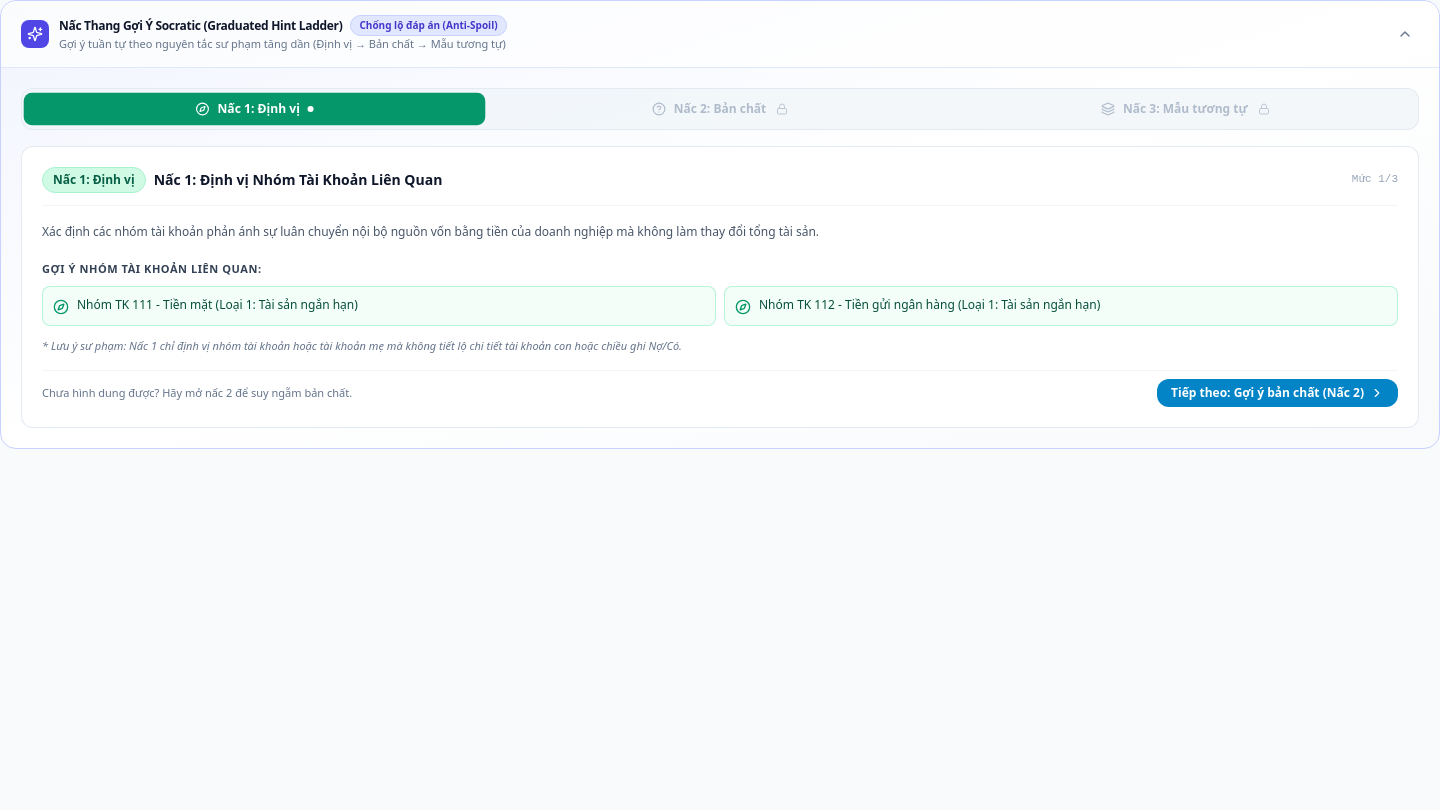
it: SOCRATIC HINT LADDER (R2) UNIT TESTS › 3. Anti-Spoil Sequential Progression › should unlock Level 2 only after clicking "Tiếp theo: Gợi ý bản chất (Nấc 2)"
# Unlock Level 2
Click the button with test id "unlock-level-2-button".
click(1278, 393)  # box [1157,379,1398,407]
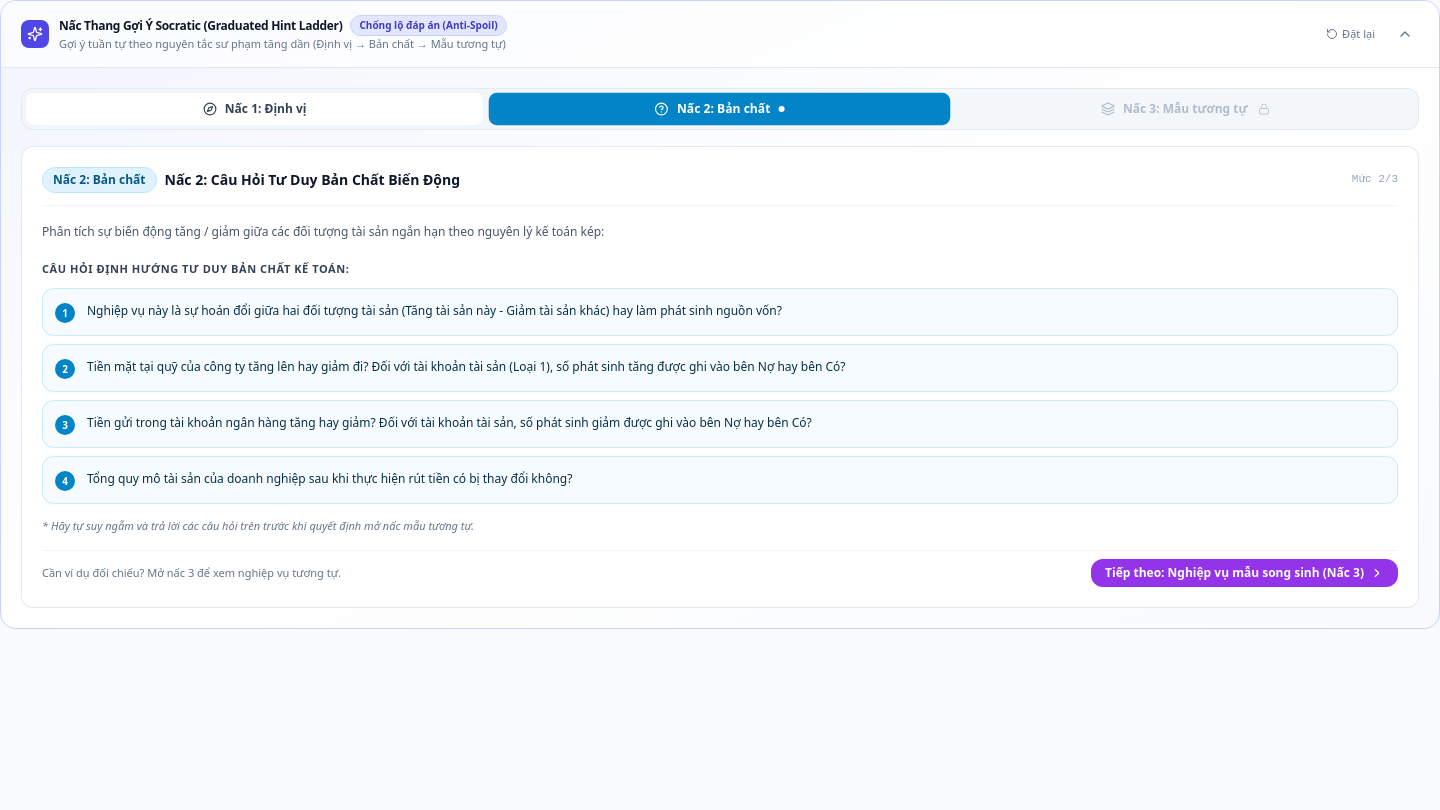
Check: the 1st text "Nấc 2: Bản chất" is shown, box [677,100,771,117]
Check: the element with test id "level-2-content" is shown, box [42,257,1398,534]
Check: the text "Câu hỏi định hướng tư duy bản chất kế toán:" is shown, box [42,261,349,276]
# Learner can navigate back to Level 1
Click the button with test id "hint-step-button-1".
click(255, 108)  # box [26,92,483,124]
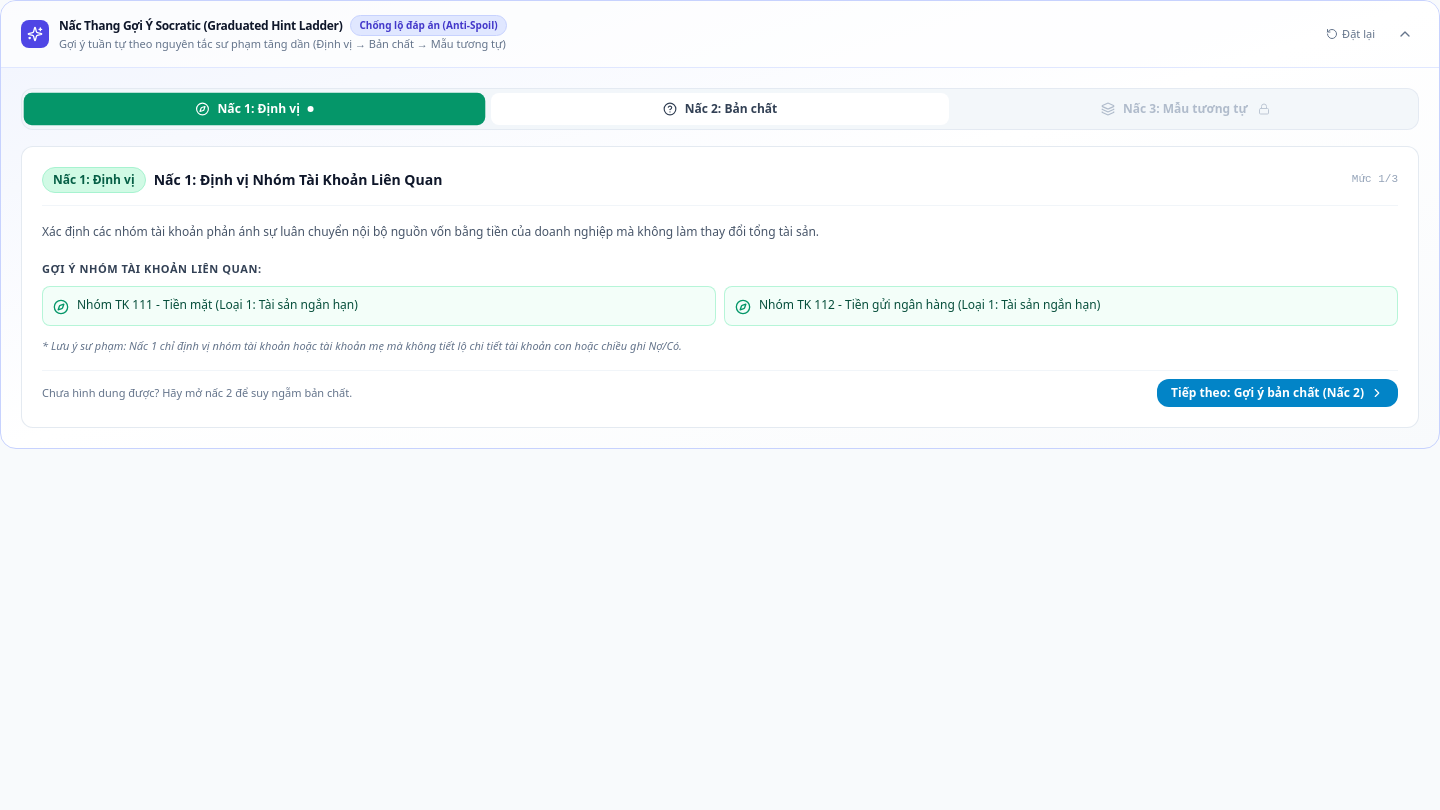
Check: the element with test id "level-1-content" is shown, box [42,257,1398,354]
# Learner can navigate forward to Level 2 since it was unlocked
Click the button with test id "hint-step-button-2".
click(720, 108)  # box [491,92,949,124]
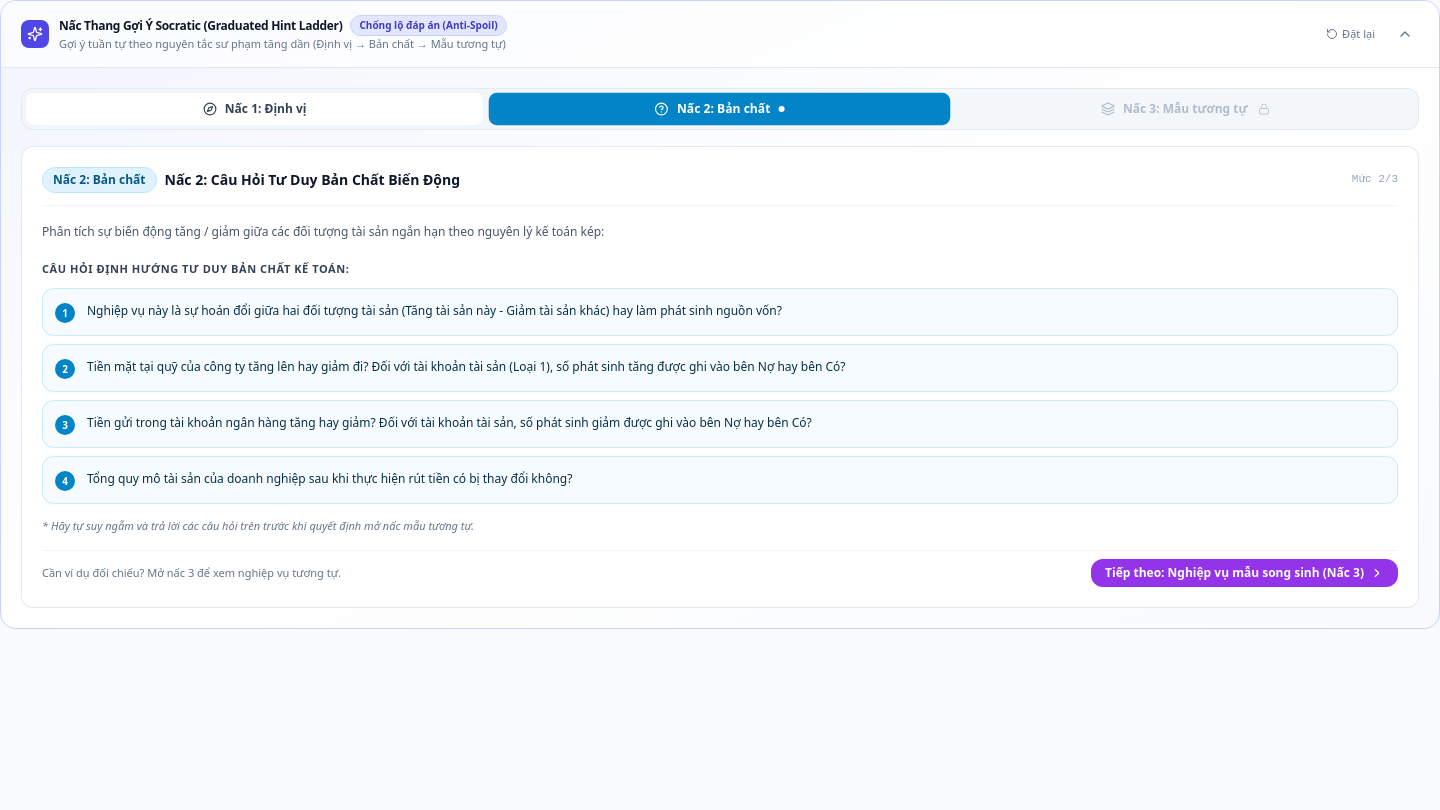
Check: the element with test id "level-2-content" is shown, box [42,257,1398,534]
